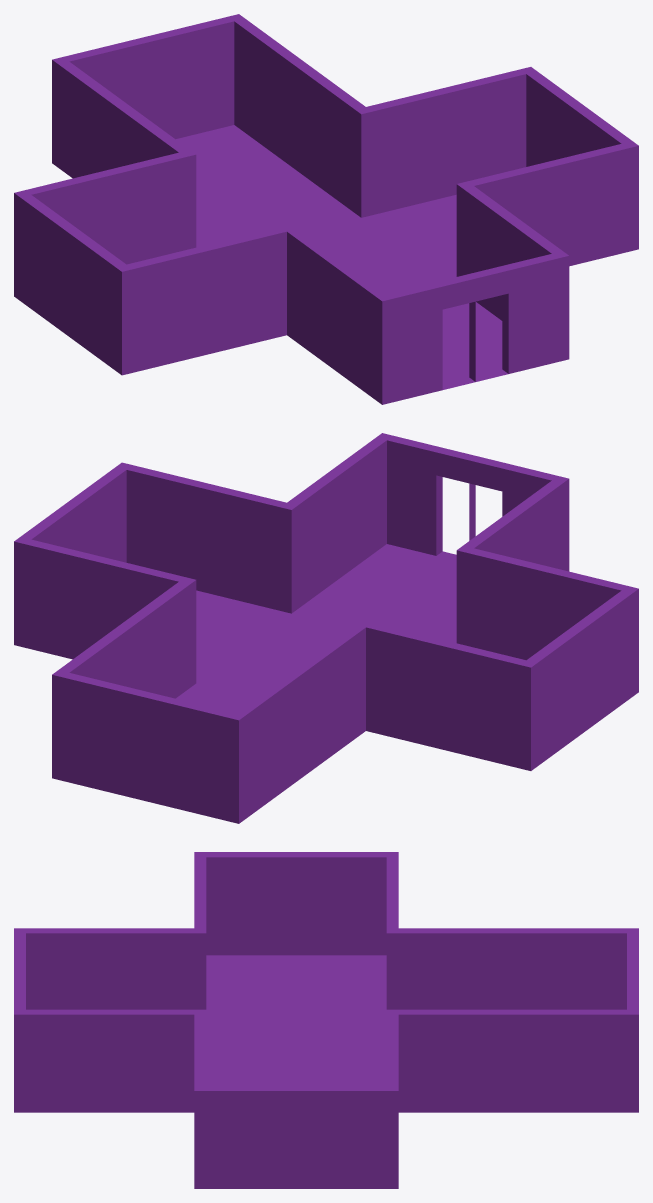
Rendered from RitualRoom_1_MASTER.fbx.
3 views of the same model, one above another, from view 1: azimuth 30°, elevation 25°; view 2: azimuth 150°, elevation 25°; view 3: azimuth 270°, elevation 25° (orthographic). The views are drawn at different scales.
Visible parts, largest first — view 1: RitualRoom; view 2: RitualRoom; view 3: RitualRoom.
Boxes of the visible parts, x1,y1,x2,y2 form: RitualRoom: [14, 14, 638, 404]; RitualRoom: [14, 433, 638, 823]; RitualRoom: [14, 852, 638, 1188].
Bounding box in the file's own units: 564 × 108 × 624.
